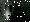person: (6, 6, 13, 21)
